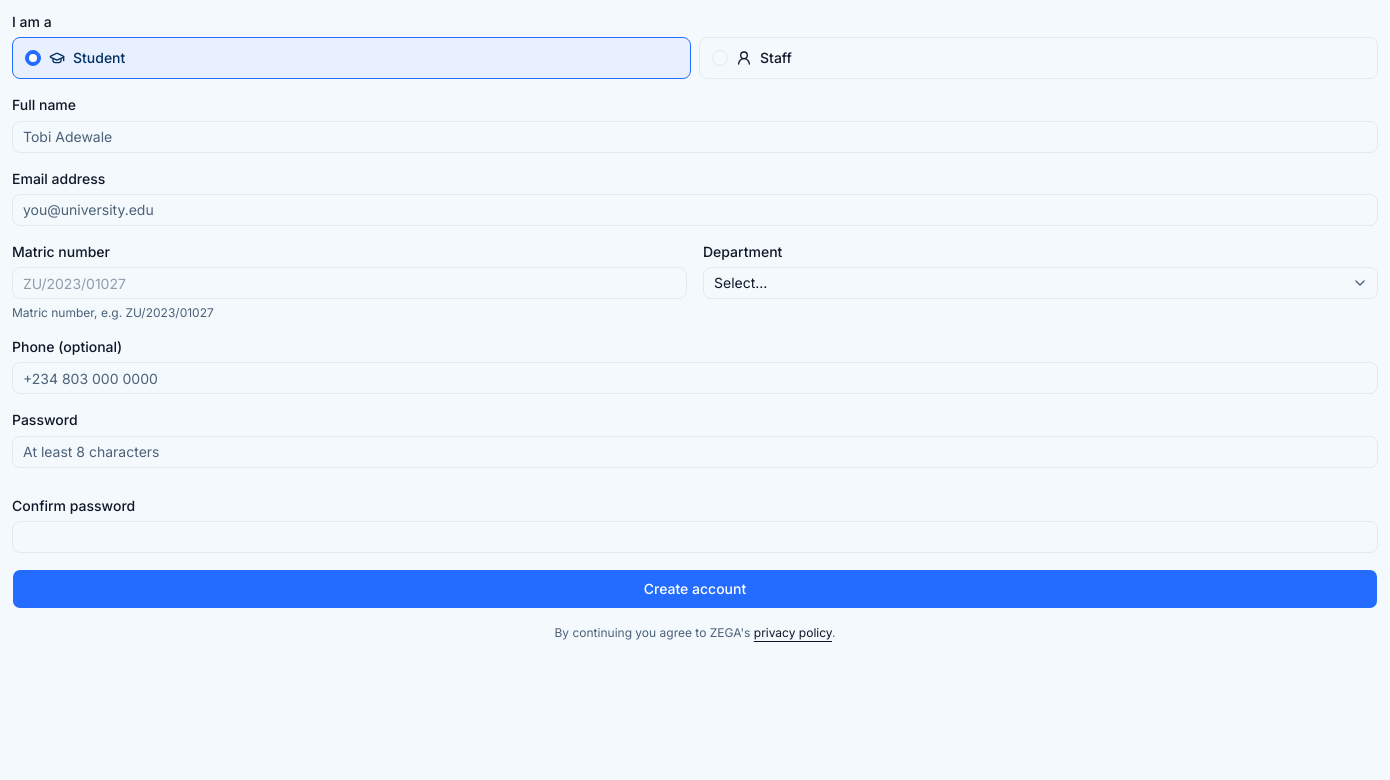
Scenario: RegisterForm › shows validation errors and does not submit an empty form
This screenshot has width=1390, height=780.
Click the button "Create account": click(695, 589) [12,569,1378,609]
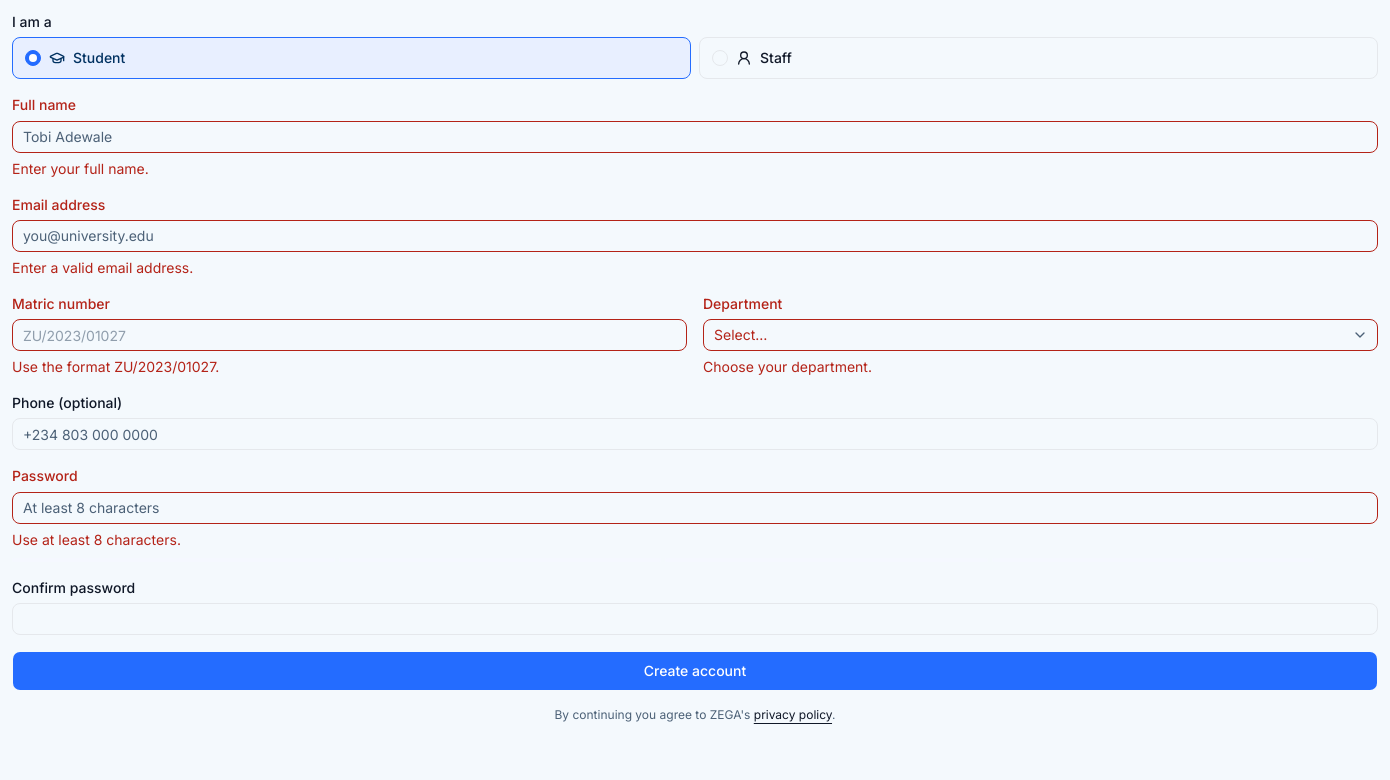
Check: the text "Enter your full name." is shown, box [12,160,149,176]
Check: the text "Enter a valid email address." is shown, box [12,259,193,276]
